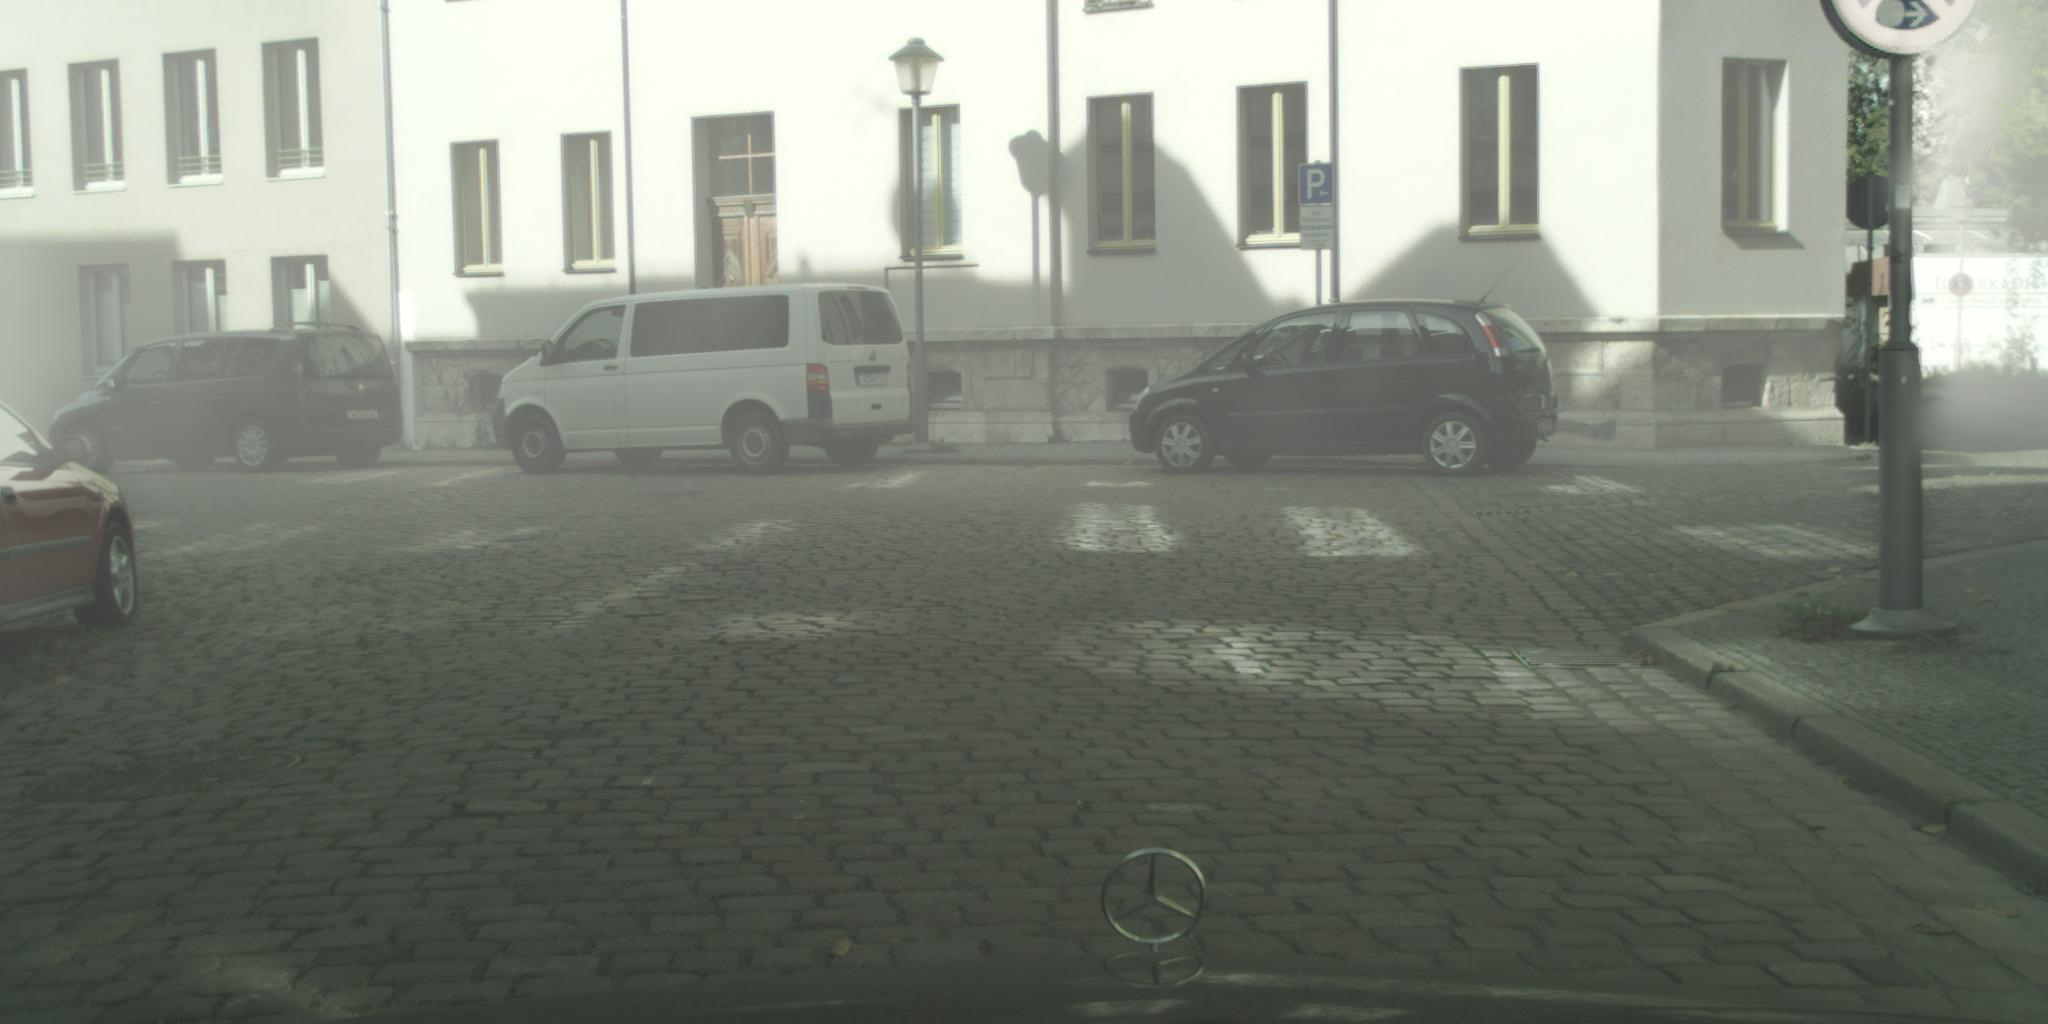car: (492, 281, 921, 477), (1130, 299, 1560, 477), (44, 320, 408, 477), (1, 398, 140, 631)
